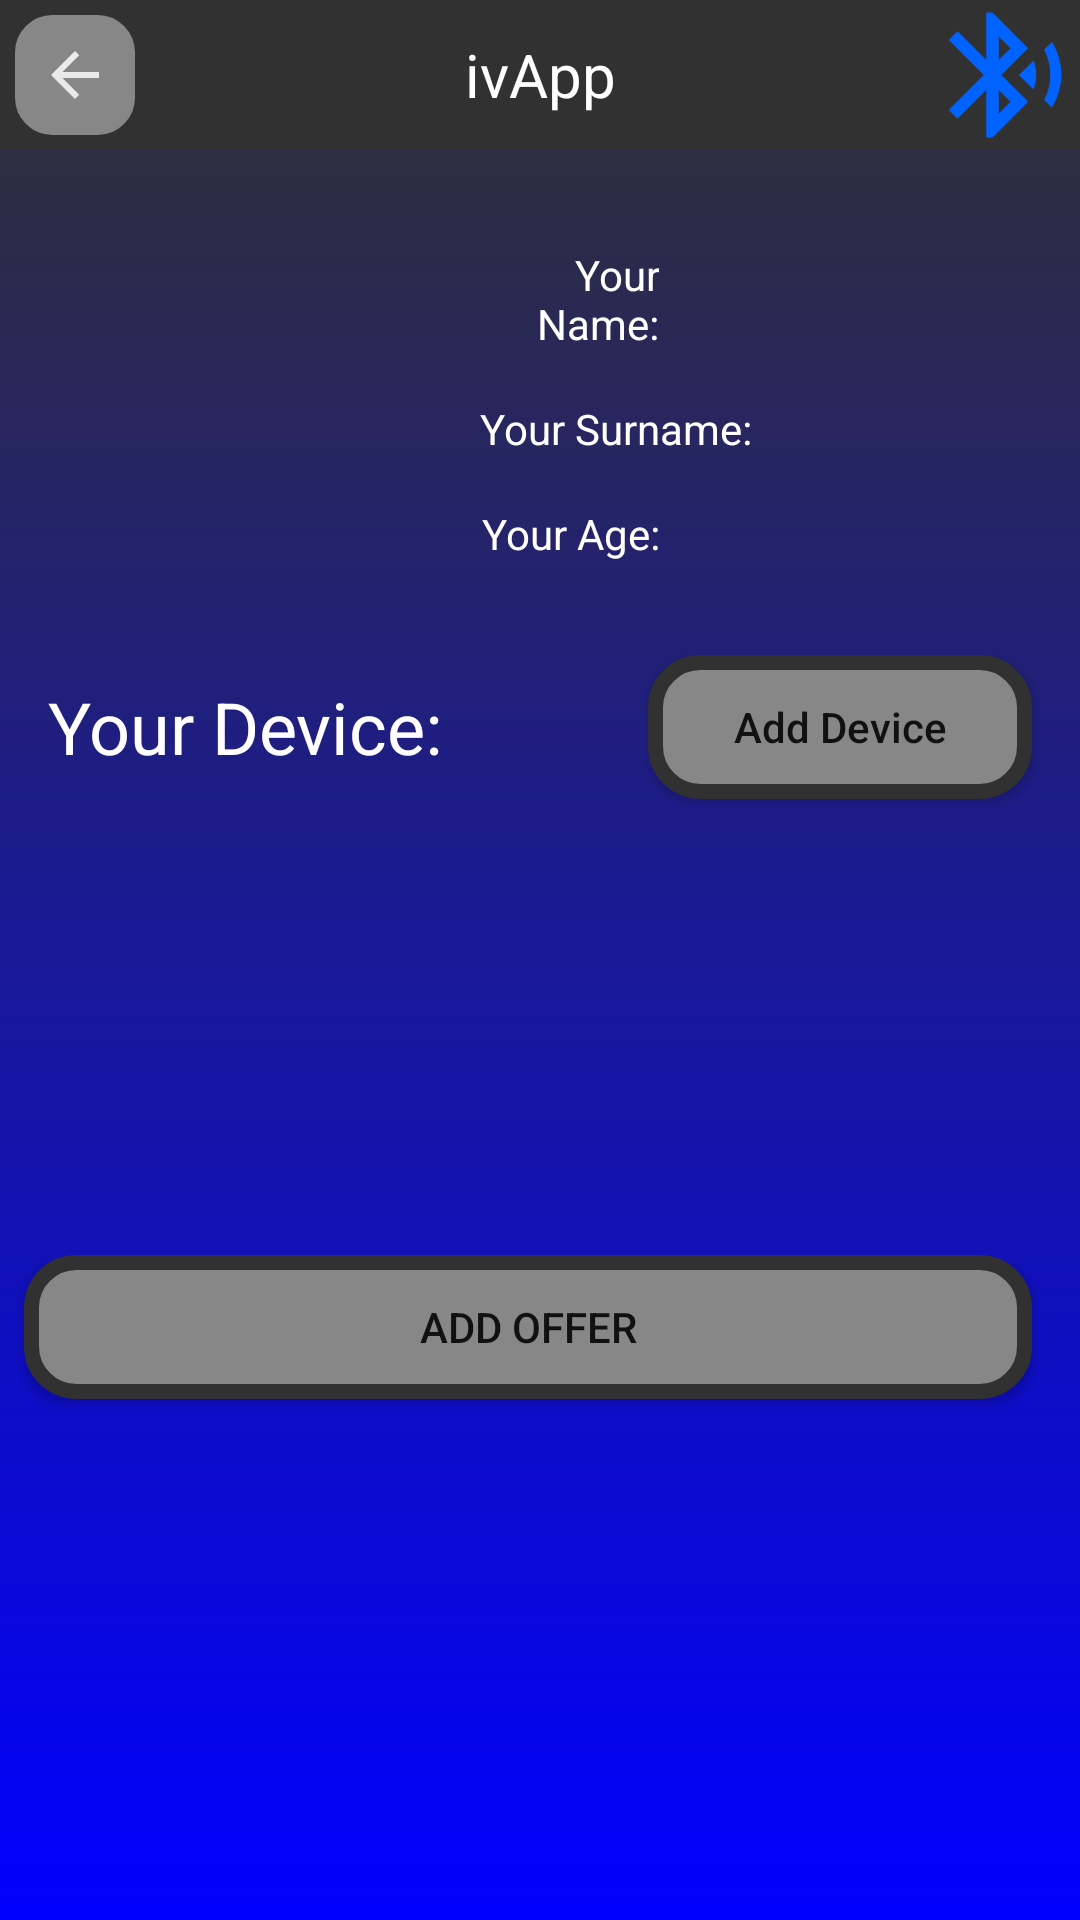

Icons on this 1080w x 1920h Android screen, each with its box as (x1, y1, x2, y2):
arrow back: (15, 15, 135, 135)
